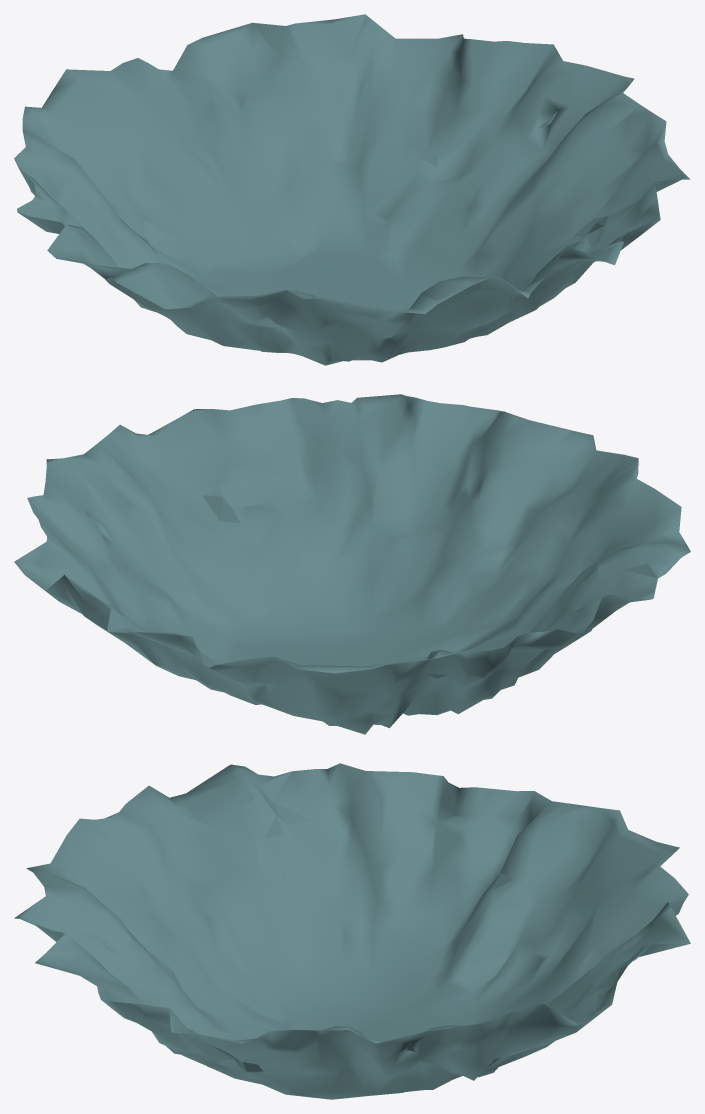
Rendered from BgMD_Crater_Low_003.fbx.
3 renders of one model, top to bottom at view 1: azimuth 30°, elevation 25°; view 2: azimuth 150°, elevation 25°; view 3: azimuth 270°, elevation 25°, orthographic. The views are drawn at different scales.
Parts seen in each view (by area): view 1: Crater_002_LOW2; view 2: Crater_002_LOW2; view 3: Crater_002_LOW2.
Boxes of the visible parts, x1,y1,x2,y2 form: Crater_002_LOW2: (14, 14, 690, 365); Crater_002_LOW2: (14, 394, 690, 734); Crater_002_LOW2: (14, 763, 690, 1099).
Bounding box in the file's own units: 16347 × 4229 × 16077.
